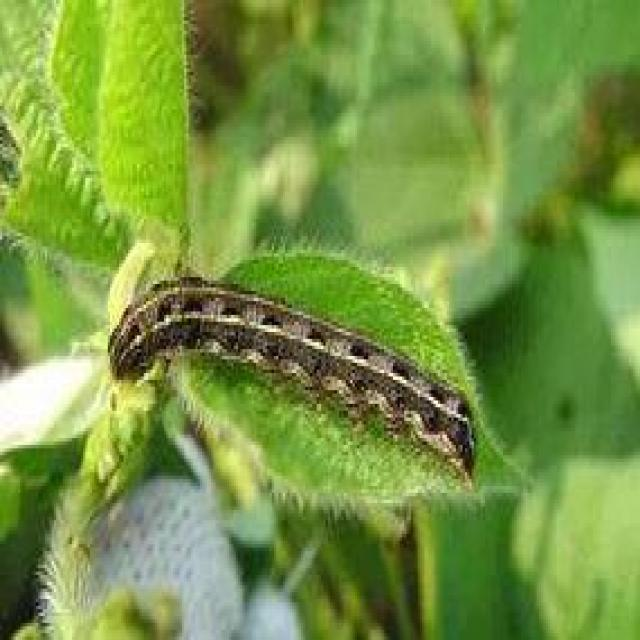BeetArmyWorm-Larva-: (98, 276, 482, 483)
